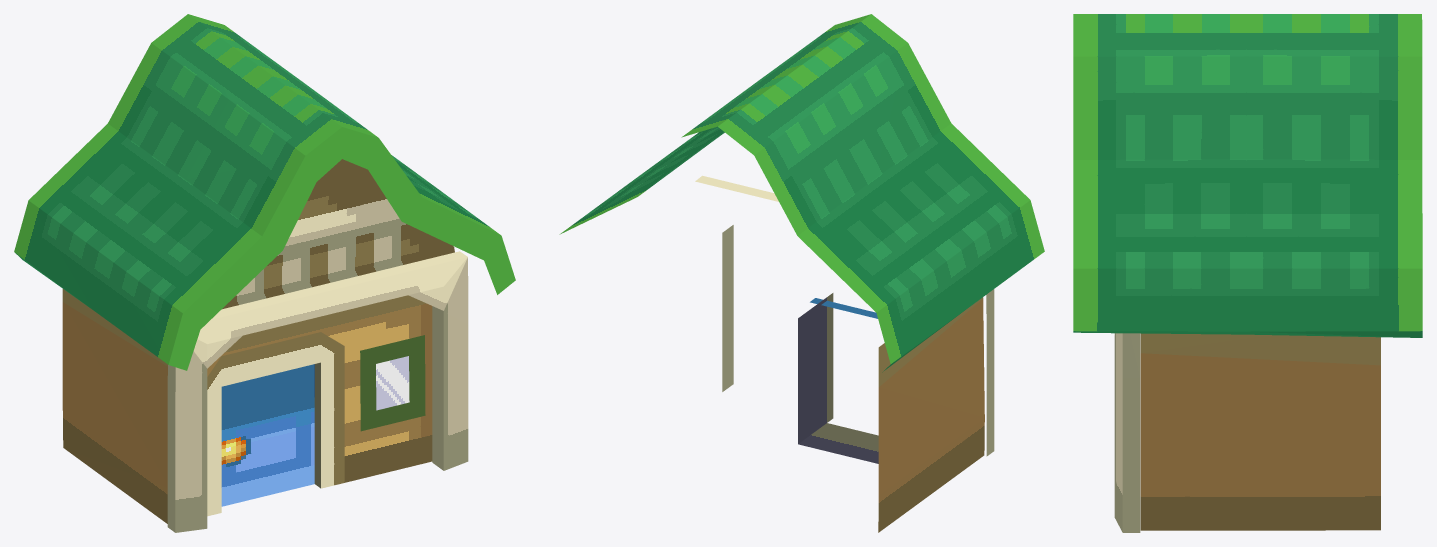
Rendered from house.glb.
3 views of the same model, side by side, from view 1: azimuth 30°, elevation 25°; view 2: azimuth 150°, elevation 25°; view 3: azimuth 270°, elevation 25° (orthographic). The views are drawn at different scales.
Size of the model in its own units: 4.24 by 4.52 by 3.27.
Materials: 3 (3 with a texture image).
